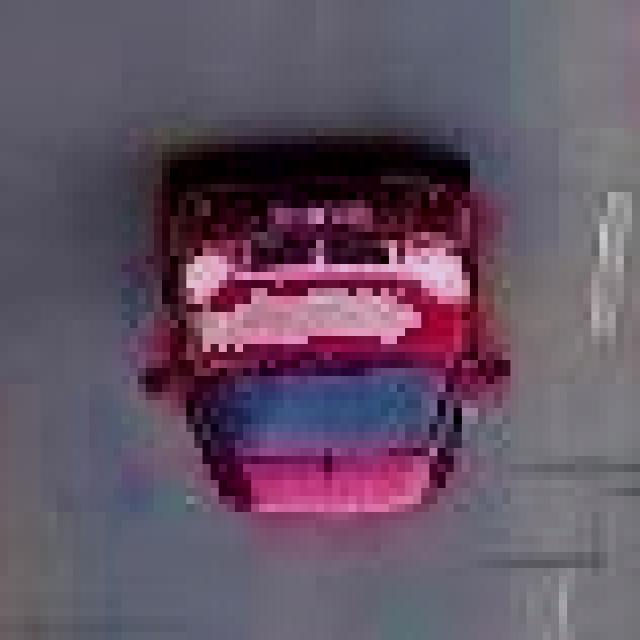maroon: (162, 152, 486, 520)
